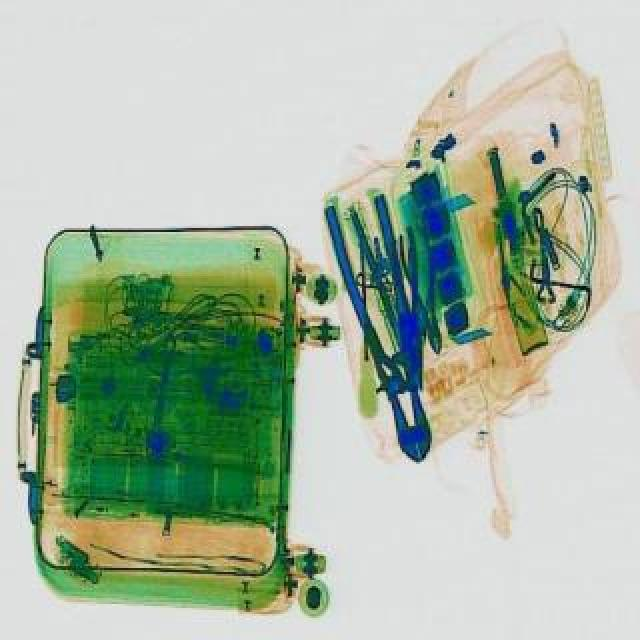wrench: (322, 192, 452, 466), (370, 228, 442, 388), (392, 224, 454, 354)
